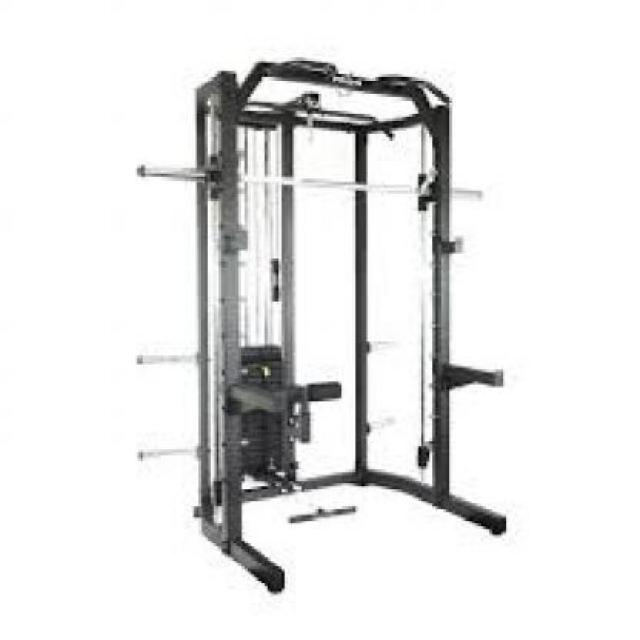smith machine: (137, 57, 508, 594)
